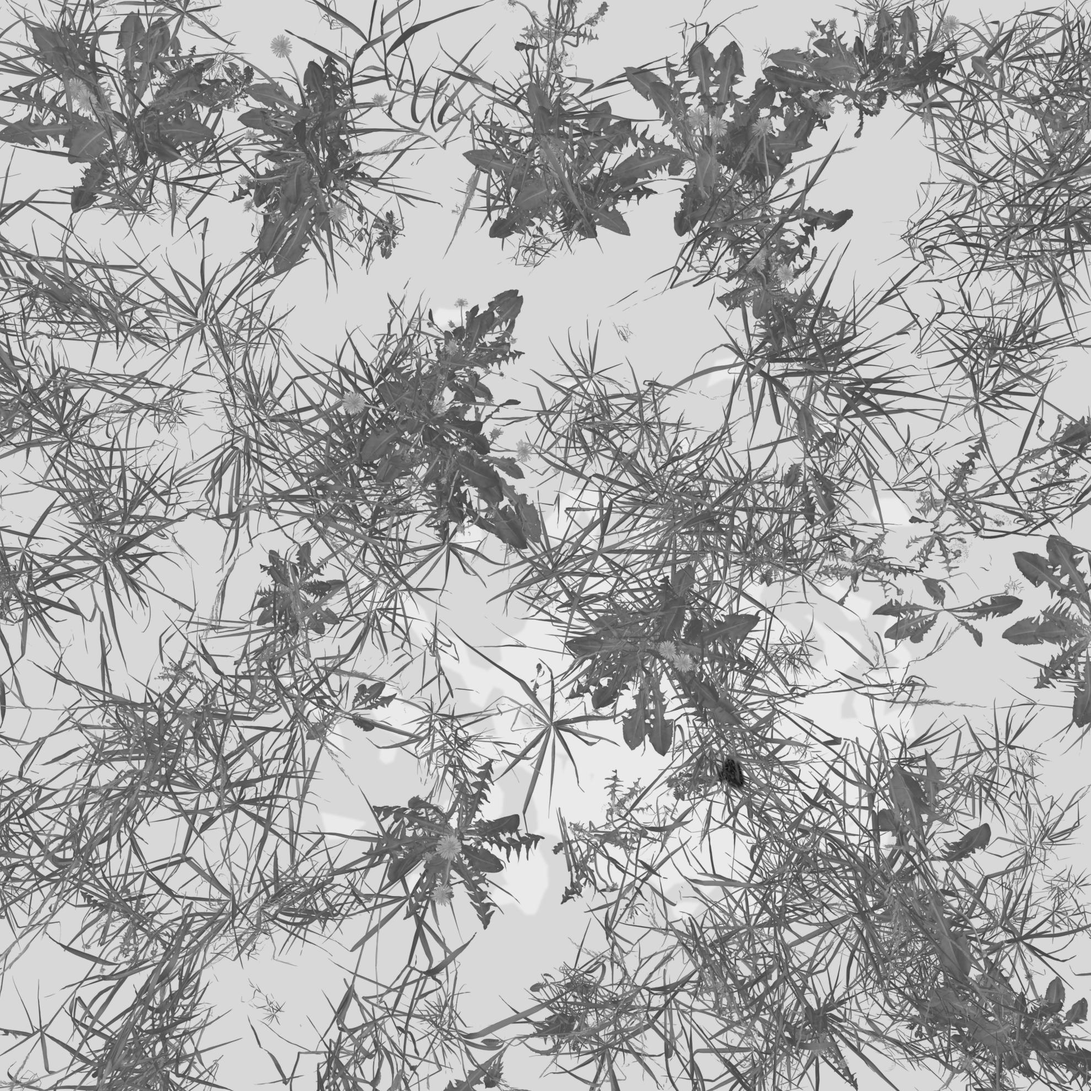landmine: (713, 672, 762, 712)
